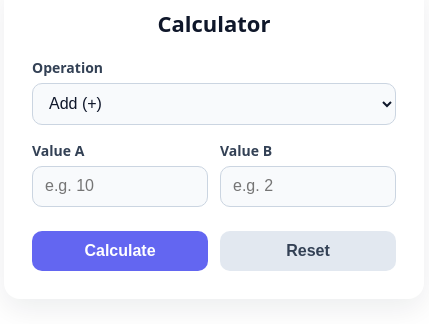
Test: <Calculator /> › hides the second operand when 'Square Root' is selected
This screenshot has width=429, height=324.
Select "Square Root (√)" in the dropdown labelled "Operation" at (214, 104), box [32,83,396,125]
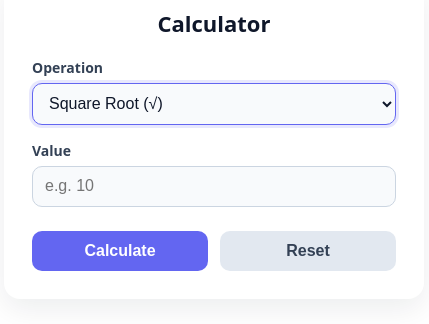
Check: the number field labelled "Value" is shown, box [32,166,396,207]
Check: the label labelled "Value B" is gone
